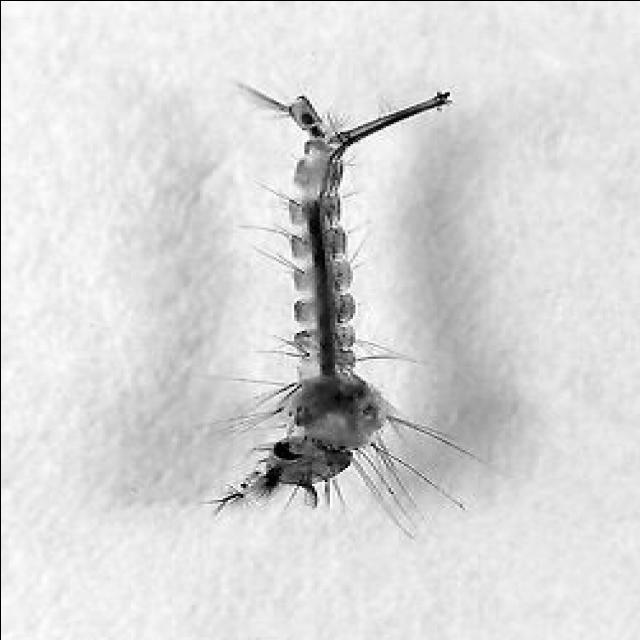larvas: (256, 80, 386, 500)
